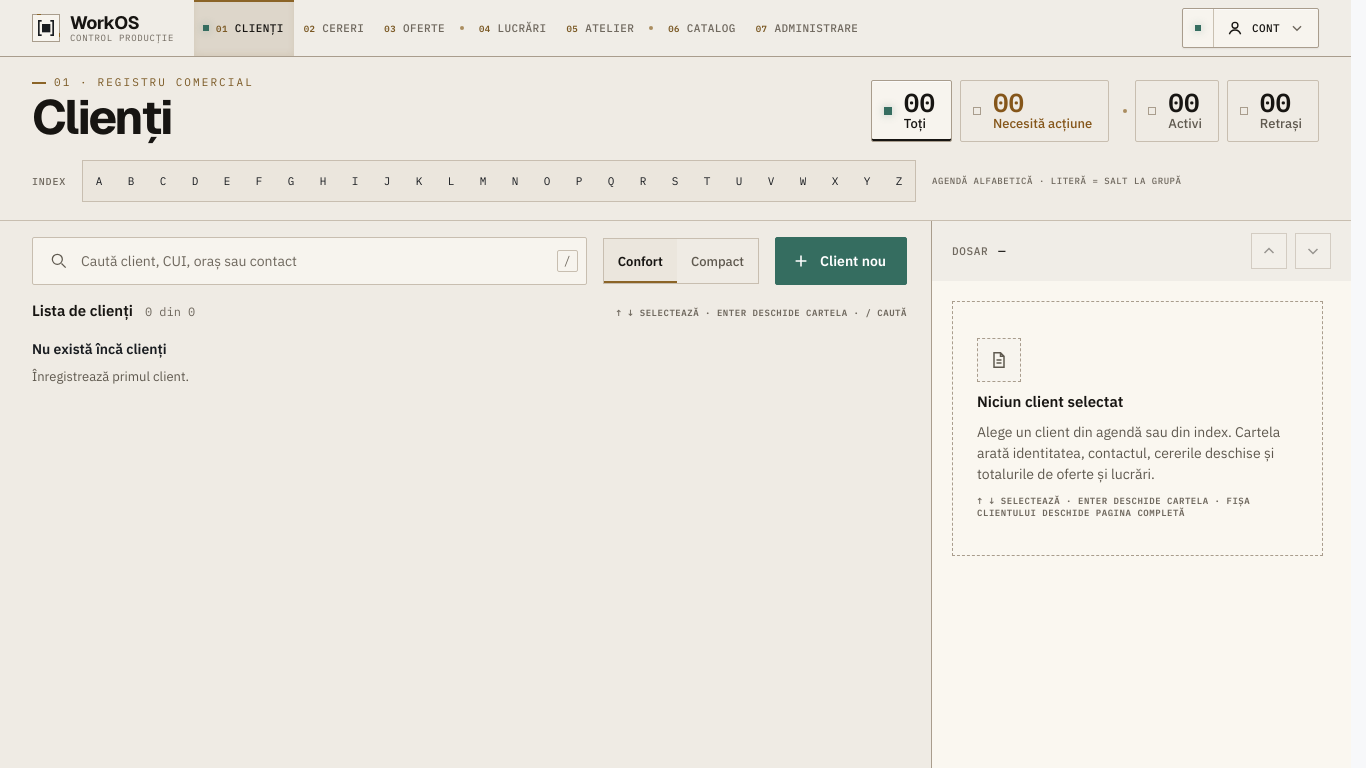
App Cloud auth integration › logs out through the Cloud contract and returns to the login gate
The width and height of the screenshot is (1366, 768).
Click the button "Cont": [1266, 28] box [1214,9,1318,47]
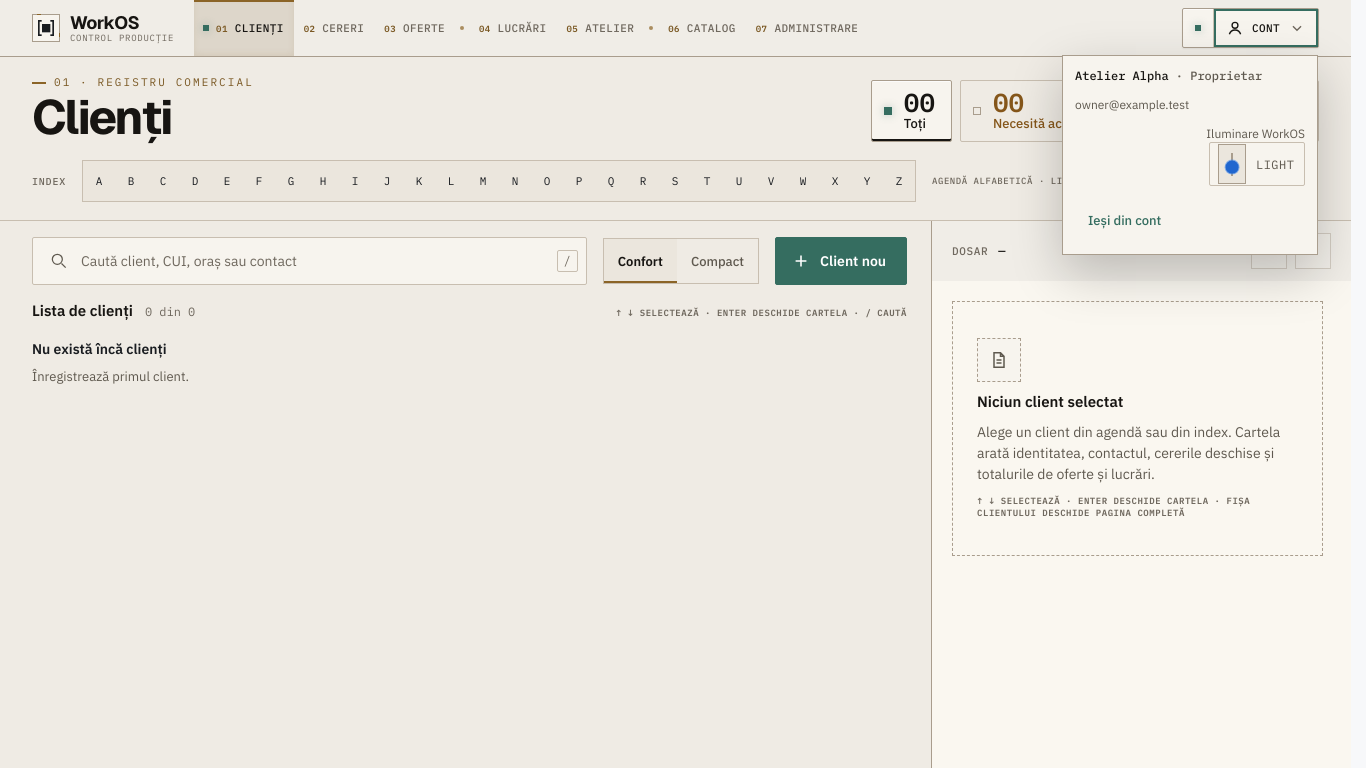
Click the button "Ieși din cont": [1125, 220] box [1075,198,1174,242]
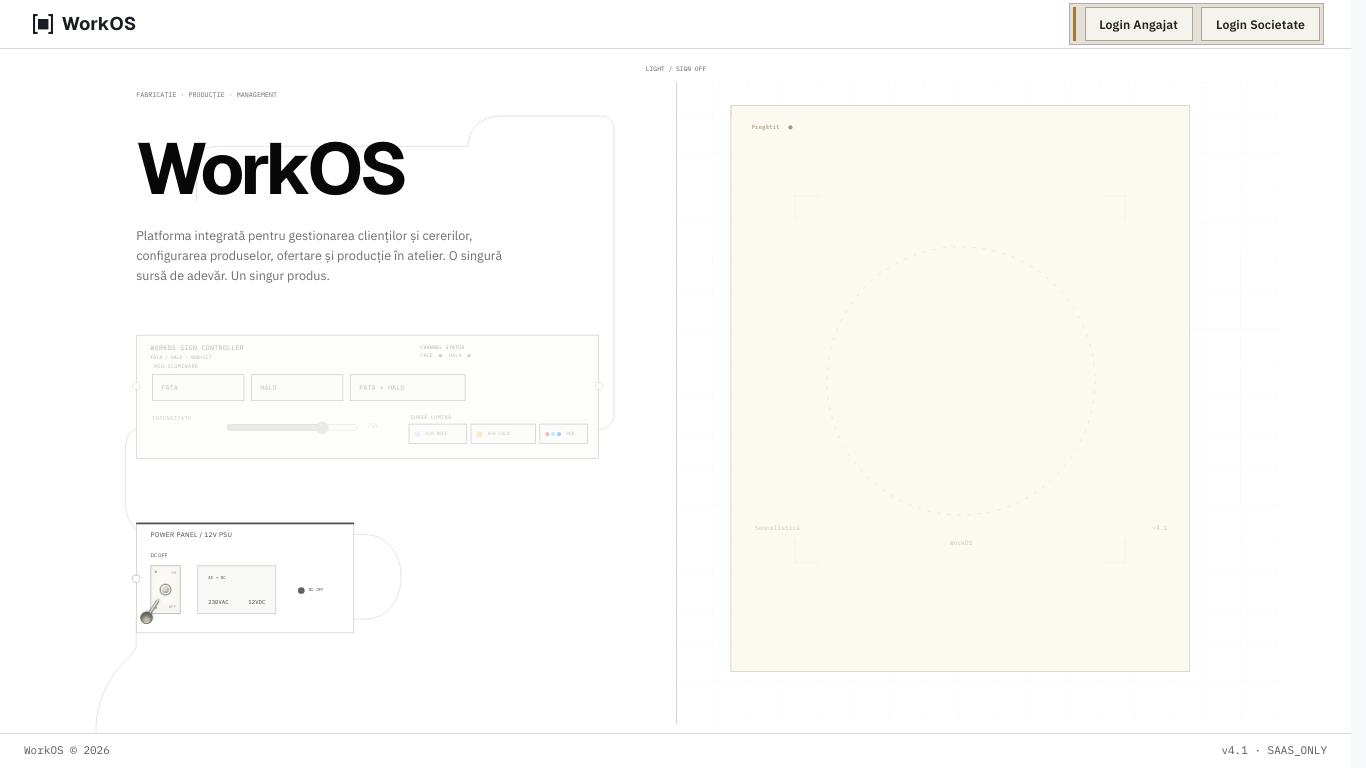
Now the button "Login Societate" is shown, box [1201,7,1320,41]
Now the button "Login Angajat" is shown, box [1084,7,1193,41]
Now the element named "Panou autentificare WorkOS" is shown, box [676,82,1279,725]
